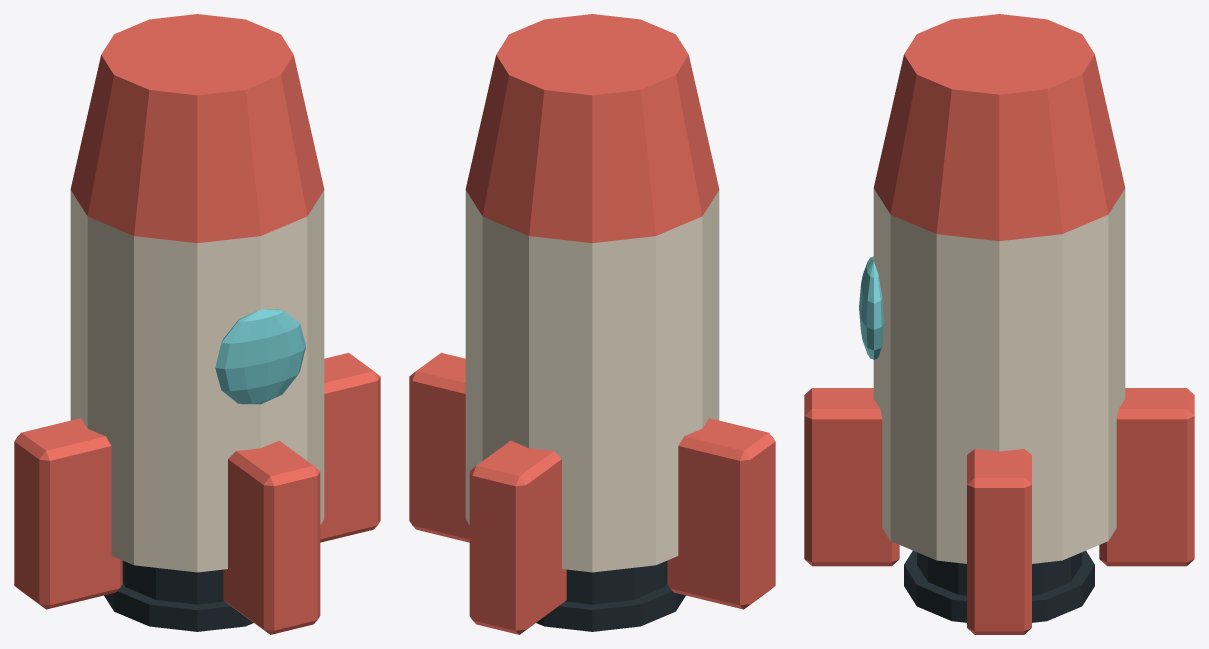
The model's file is rocket_v1.glb.
3 views of the same model, side by side, from view 1: azimuth 30°, elevation 25°; view 2: azimuth 150°, elevation 25°; view 3: azimuth 270°, elevation 25° (orthographic).
Visible parts, largest first — view 1: Rocket / paper fuselage, Rocket / coral blunt nose, Rocket / fin x -1, Rocket / fin y -1, Rocket / fin x 1, Rocket / teal porthole, Rocket / nozzle lower lip, Rocket / dark nozzle; view 2: Rocket / paper fuselage, Rocket / coral blunt nose, Rocket / fin x -1, Rocket / fin y 1, Rocket / fin x 1, Rocket / nozzle lower lip, Rocket / dark nozzle; view 3: Rocket / paper fuselage, Rocket / coral blunt nose, Rocket / fin y -1, Rocket / fin y 1, Rocket / fin x 1, Rocket / nozzle lower lip, Rocket / dark nozzle, Rocket / teal porthole.
Boxes of the visible parts, x1,y1,x2,y2 form: Rocket / paper fuselage: [70, 190, 324, 572]; Rocket / coral blunt nose: [70, 14, 324, 243]; Rocket / fin x -1: [14, 418, 122, 609]; Rocket / fin y -1: [223, 440, 320, 634]; Rocket / fin x 1: [320, 352, 380, 542]; Rocket / teal porthole: [215, 309, 305, 404]; Rocket / nozzle lower lip: [104, 583, 253, 631]; Rocket / dark nozzle: [122, 561, 224, 604]; Rocket / paper fuselage: [465, 190, 719, 572]; Rocket / coral blunt nose: [465, 14, 719, 243]; Rocket / fin x -1: [667, 418, 775, 609]; Rocket / fin y 1: [469, 440, 566, 634]; Rocket / fin x 1: [409, 352, 469, 542]; Rocket / nozzle lower lip: [536, 583, 685, 631]; Rocket / dark nozzle: [565, 561, 667, 604]; Rocket / paper fuselage: [873, 188, 1125, 563]; Rocket / coral blunt nose: [873, 14, 1125, 241]; Rocket / fin y -1: [804, 388, 899, 566]; Rocket / fin y 1: [1099, 388, 1194, 566]; Rocket / fin x 1: [967, 449, 1031, 634]; Rocket / nozzle lower lip: [904, 550, 1094, 622]; Rocket / dark nozzle: [917, 552, 1081, 595]; Rocket / teal porthole: [859, 256, 883, 359].
Size of the model in its own units: 0.9 by 1.35 by 0.9.
